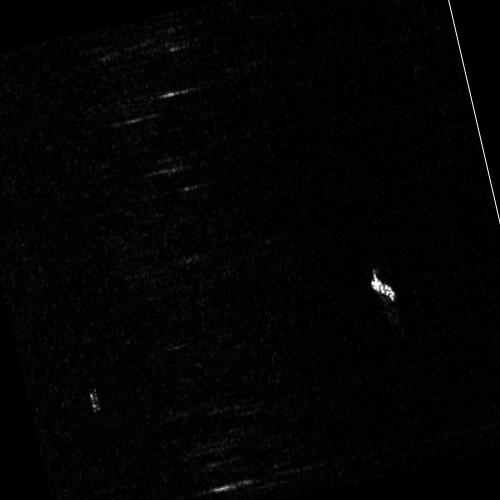ship: (370, 276, 396, 301)
